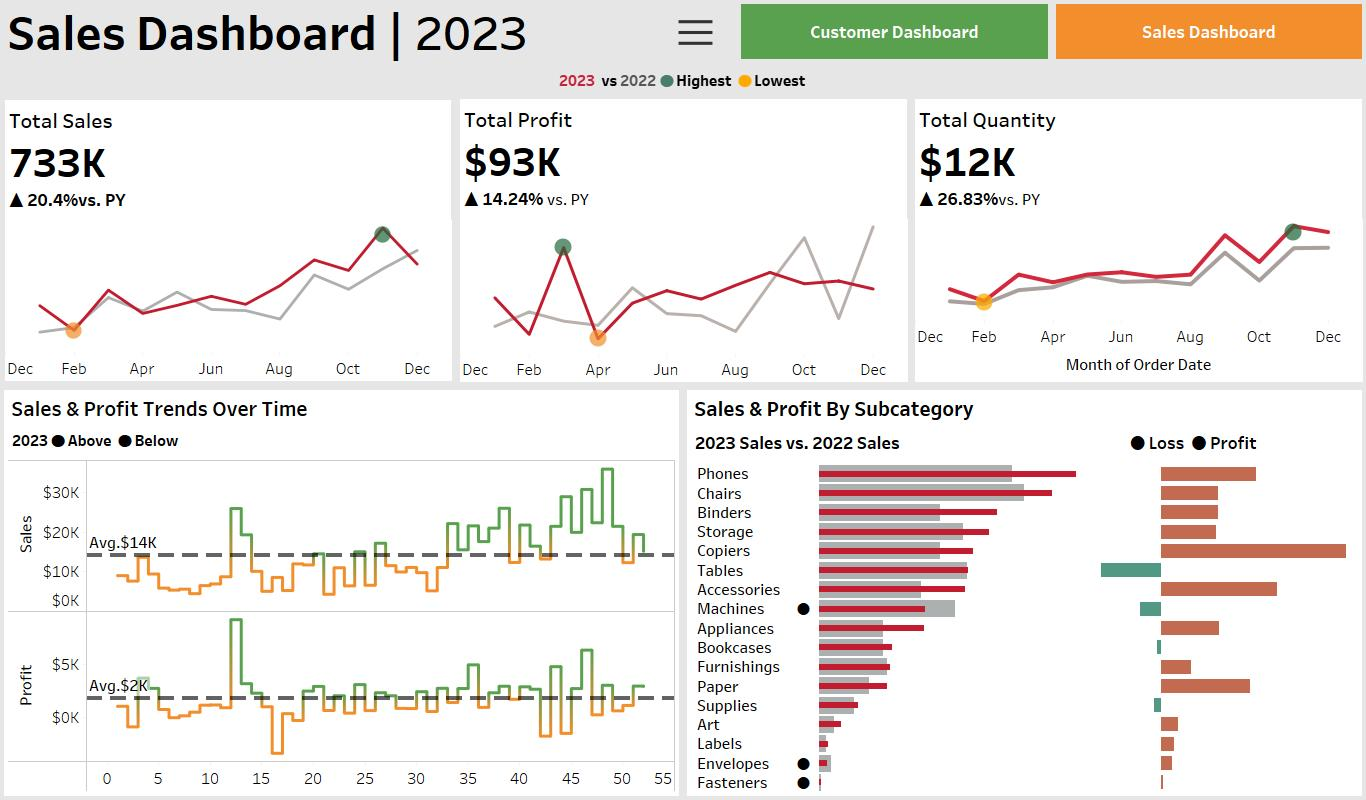

This screenshot's page, from the dashboard's own definition file:
{"tool":"tableau","page":{"name":"Sales Dashboard","canvas":[1366,800],"ordinal":1},"visuals":[{"type":"text","box":[0,0,737,63]},{"type":"dashboard-object","box":[737,0,315,63]},{"type":"dashboard-object","box":[1052,0,314,63]},{"type":"dashboard-object","box":[666,13.5,60,37.5]},{"type":"worksheet","title":"Ref3","mark":"Automatic","box":[0,63,1366,32]},{"type":"blank","box":[1078,84,293.7,32]},{"type":"worksheet","title":"KPI Sales","mark":"Line","rows":["Calculation_711568804218179588"],"cols":["Order Date"],"box":[0,95,456,291]},{"type":"worksheet","title":"KPI Profit","mark":"Line","rows":["MIN/MAX sales (copy)_711568804254154787"],"cols":["Order Date"],"box":[456,95,455,291]},{"type":"worksheet","title":"KPI Quantity","mark":"Line","rows":["Min/Max Profit (copy)_711568804243308566"],"cols":["Order Date"],"box":[911,95,455,291]},{"type":"text","box":[1078,116,293.7,35]},{"type":"parameter","param":"[Parameters].[Parameter 1]","box":[1078,151,293.7,64]},{"type":"blank","box":[1078,215,293.7,26]},{"type":"text","box":[1078,241,293.7,29]},{"type":"filter","title":"KPI Sales","param":"[federated.1h2k6z30rv0n9m1bd26dk0tip19k].[none:Category:nk]","box":[1078,270,293.7,61]},{"type":"filter","title":"KPI Sales","param":"[federated.1h2k6z30rv0n9m1bd26dk0tip19k].[none:Sub-Category:nk]","box":[1078,331,293.7,61]},{"type":"text","box":[4,390,675,36]},{"type":"text","box":[687,390,675,35]},{"type":"blank","box":[1078,392,293.7,48]},{"type":"worksheet","title":"Ref1","mark":"Automatic","box":[687,425,338,35]},{"type":"text","box":[1025,425,337,35]},{"type":"worksheet","title":"Ref2","mark":"Automatic","box":[4,426,675,30]},{"type":"text","box":[1078,440,293.7,29]},{"type":"worksheet","title":"Weekly Trends","mark":"Automatic","rows":["Calculation_711568803909754880","Calculation_711568804231221261"],"cols":["Order Date"],"box":[4,456,675,340]},{"type":"worksheet","title":"SubCategory Comparision","mark":"Bar","rows":["Sub-Category","Calculation_711568804257251365"],"cols":["CurrentYear Sales (copy)_711568803909943297","Calculation_711568803909754880","Calculation_711568804231221261"],"box":[687,460,675,335.9]},{"type":"filter","title":"KPI Sales","param":"[federated.1h2k6z30rv0n9m1bd26dk0tip19k].[none:Region:nk]","box":[1078,469,293.7,61]},{"type":"filter","title":"KPI Sales","param":"[federated.1h2k6z30rv0n9m1bd26dk0tip19k].[none:State:nk]","box":[1078,530,293.7,61]},{"type":"filter","title":"KPI Sales","param":"[federated.1h2k6z30rv0n9m1bd26dk0tip19k].[none:City:nk]","box":[1078,591,293.7,61]}]}

Visuals, with their boxes in screenshot pixels (x1, y1, x2, y2), scaled from the page's 1366x800 canvas onto the 1366x800 screenshot:
text: 0/0/737/63
dashboard-object: 737/0/1052/63
dashboard-object: 1052/0/1365/63
dashboard-object: 666/14/726/51
"Ref3" worksheet: 0/63/1365/95
blank: 1078/84/1365/116
"KPI Sales" worksheet (Line marks): 0/95/456/386
"KPI Profit" worksheet (Line marks): 456/95/911/386
"KPI Quantity" worksheet (Line marks): 911/95/1365/386
text: 1078/116/1365/151
parameter: 1078/151/1365/215
blank: 1078/215/1365/241
text: 1078/241/1365/270
"KPI Sales" filter: 1078/270/1365/331
"KPI Sales" filter: 1078/331/1365/392
text: 4/390/679/426
text: 687/390/1362/425
blank: 1078/392/1365/440
"Ref1" worksheet: 687/425/1025/460
text: 1025/425/1362/460
"Ref2" worksheet: 4/426/679/456
text: 1078/440/1365/469
"Weekly Trends" worksheet: 4/456/679/796
"SubCategory Comparision" worksheet (Bar marks): 687/460/1362/796
"KPI Sales" filter: 1078/469/1365/530
"KPI Sales" filter: 1078/530/1365/591
"KPI Sales" filter: 1078/591/1365/652
